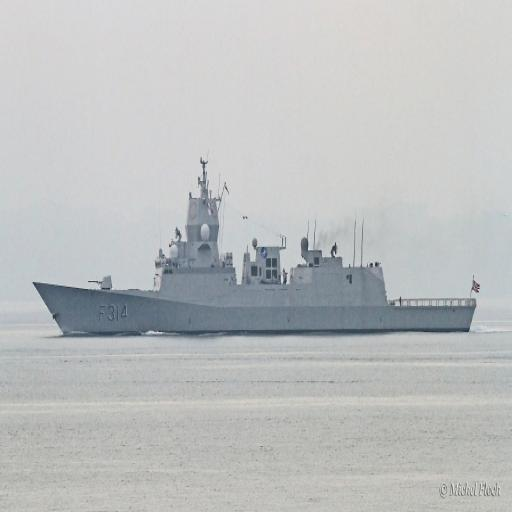Fragata: (32, 150, 479, 342)
